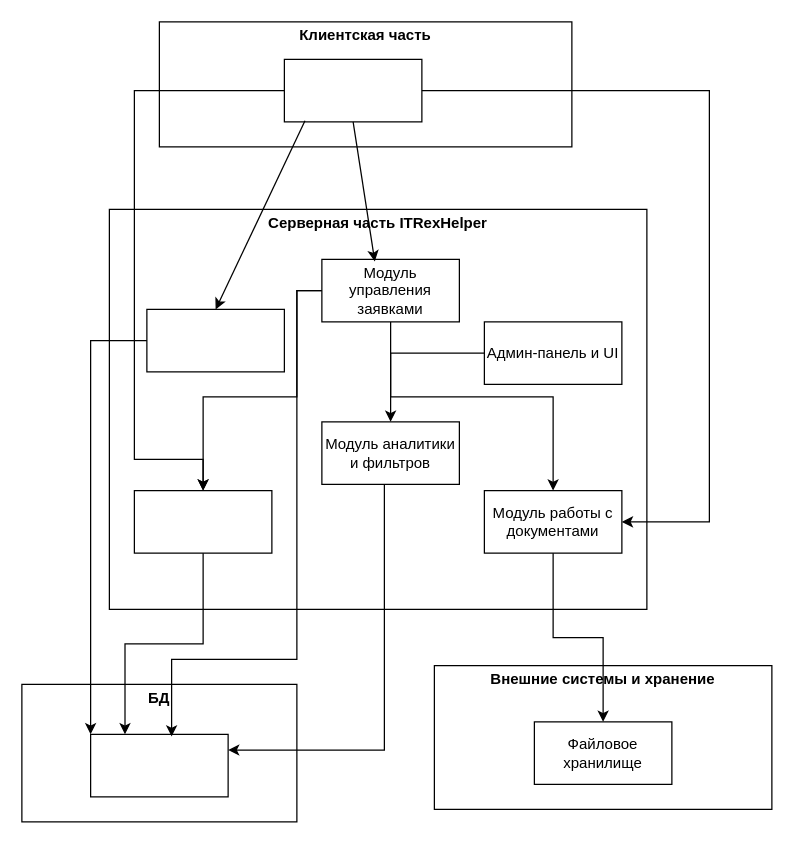
This 794x844 diagram has some shape labels left out. The shapes that lost their labels are listed below. From the top down, each one's centre as x and y in pixels, then its label:
(x=352, y=90): Веб-интервейс сайта
(x=215, y=340): Модуль аутентификации
(x=202, y=521): Модуль чата и уведомлений
(x=158, y=765): База данный
